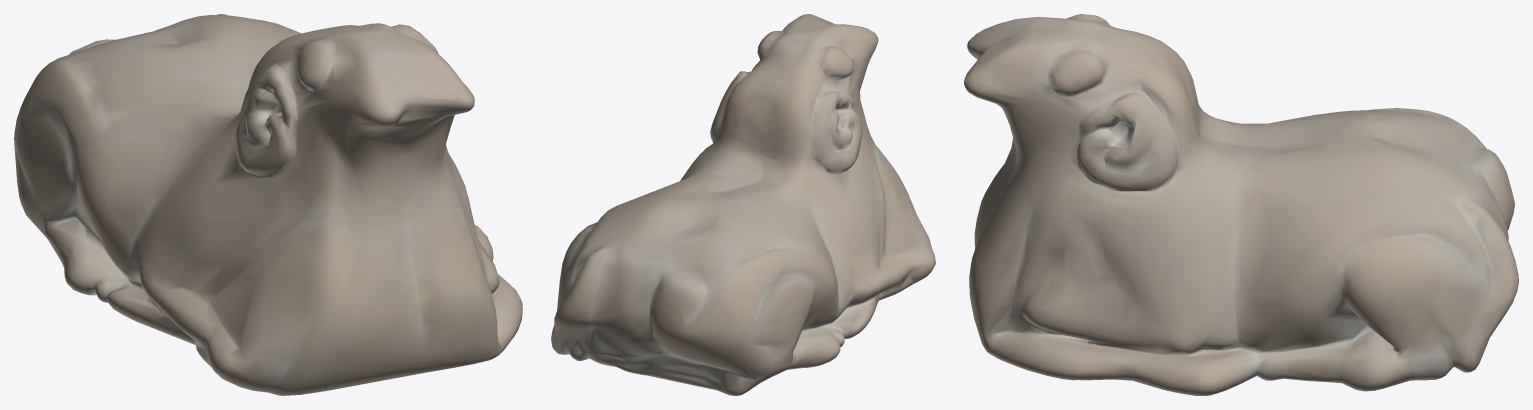
3 renders of one model, left to right at view 1: azimuth 30°, elevation 25°; view 2: azimuth 150°, elevation 25°; view 3: azimuth 270°, elevation 25°, orthographic. The views are drawn at different scales.
Parts seen in each view (by area): view 1: node_0; view 2: node_0; view 3: node_0.
Boxes of the visible parts, x1,y1,x2,y2 form: node_0: (14, 14, 522, 395); node_0: (551, 14, 935, 395); node_0: (964, 14, 1518, 395).
Size of the model in its own units: 0.7378 by 0.6304 by 1.08.
1 material, 1 textured.
